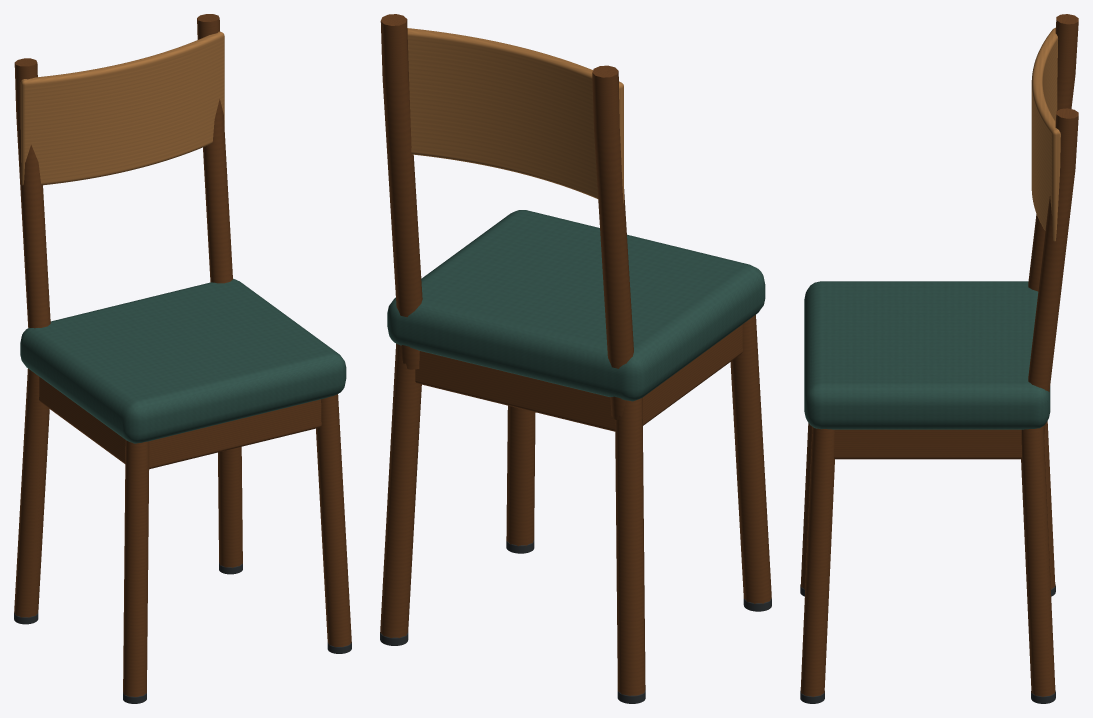
Rendered from chair.glb.
3 renders of one model, left to right at view 1: azimuth 30°, elevation 25°; view 2: azimuth 150°, elevation 25°; view 3: azimuth 270°, elevation 25°, orthographic. The views are drawn at different scales.
Parts seen in each view (by area): view 1: GEO-Cushioned seat, GEO-GEO-Curved oak backrest, GEO-Splayed oak leg, GEO-Splayed oak leg.002, GEO-Splayed oak leg.001, GEO-Seat structural apron, GEO-Continuous curved back post, GEO-Continuous curved back post.001, GEO-Splayed oak leg.003, GEO-Side apron; view 2: GEO-Cushioned seat, GEO-GEO-Curved oak backrest, GEO-Continuous curved back post.001, GEO-Continuous curved back post, GEO-Splayed oak leg.001, GEO-Splayed oak leg.003, GEO-Splayed oak leg, GEO-Seat structural apron.001, GEO-Splayed oak leg.002, GEO-Side apron; view 3: GEO-Cushioned seat, GEO-Splayed oak leg.003, GEO-Splayed oak leg.002, GEO-Continuous curved back post.001, GEO-Side apron.001, GEO-GEO-Curved oak backrest, GEO-Continuous curved back post, GEO-Splayed oak leg, GEO-Splayed oak leg.001.
Part boxes in pixels (x1,y1,x2,y2): GEO-Cushioned seat: (20, 278, 346, 443); GEO-GEO-Curved oak backrest: (20, 31, 224, 185); GEO-Splayed oak leg: (123, 440, 149, 696); GEO-Splayed oak leg.002: (316, 394, 351, 646); GEO-Splayed oak leg.001: (14, 368, 49, 617); GEO-Seat structural apron: (149, 399, 321, 468); GEO-Continuous curved back post: (14, 58, 50, 328); GEO-Continuous curved back post.001: (197, 14, 232, 283); GEO-Splayed oak leg.003: (218, 447, 242, 567); GEO-Side apron: (39, 377, 125, 463); GEO-Cushioned seat: (387, 210, 765, 401); GEO-GEO-Curved oak backrest: (407, 28, 623, 203); GEO-Continuous curved back post.001: (380, 14, 422, 369); GEO-Continuous curved back post: (592, 65, 633, 420); GEO-Splayed oak leg.001: (615, 398, 645, 695); GEO-Splayed oak leg.003: (380, 343, 421, 637); GEO-Splayed oak leg: (730, 315, 771, 603); GEO-Seat structural apron.001: (415, 351, 615, 431); GEO-Splayed oak leg.002: (506, 405, 535, 546); GEO-Side apron: (642, 324, 742, 425); GEO-Cushioned seat: (804, 281, 1050, 429); GEO-Splayed oak leg.003: (1021, 426, 1055, 696); GEO-Splayed oak leg.002: (800, 427, 834, 696); GEO-Continuous curved back post.001: (1028, 108, 1078, 436); GEO-Side apron.001: (834, 429, 1021, 459); GEO-GEO-Curved oak backrest: (1031, 28, 1060, 241); GEO-Continuous curved back post: (1028, 14, 1078, 291); GEO-Splayed oak leg: (800, 423, 812, 589); GEO-Splayed oak leg.001: (1044, 421, 1055, 589).
Bounding box in the file's own units: 0.418 × 0.9658 × 0.4204.
Materials: 6 (3 with a texture image).
